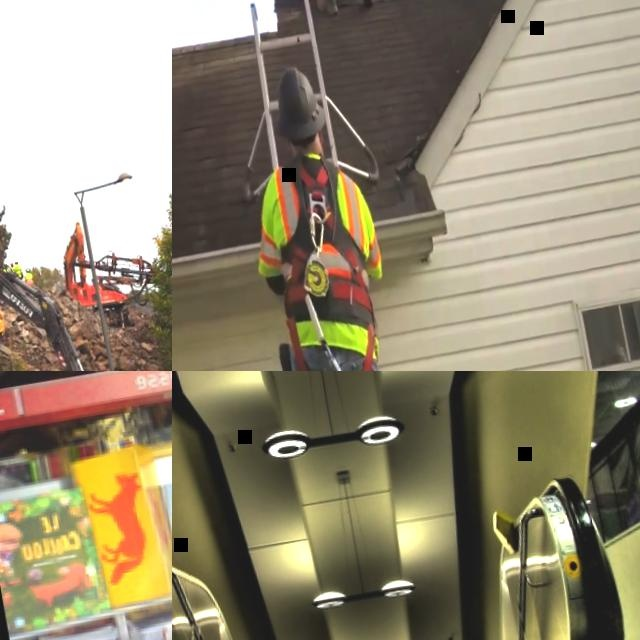Hardhat: (268, 64, 329, 145), (25, 267, 30, 273), (8, 261, 13, 266), (2, 262, 7, 267), (13, 259, 18, 264)
Person: (228, 55, 435, 371), (312, 0, 374, 18), (13, 259, 23, 279), (23, 267, 33, 283), (1, 262, 9, 274), (8, 261, 14, 273)
Safety Vest: (245, 153, 390, 343), (13, 265, 22, 279), (23, 273, 32, 281), (2, 267, 9, 274), (11, 267, 14, 273)
machinery: (53, 208, 172, 335), (0, 257, 90, 371)
